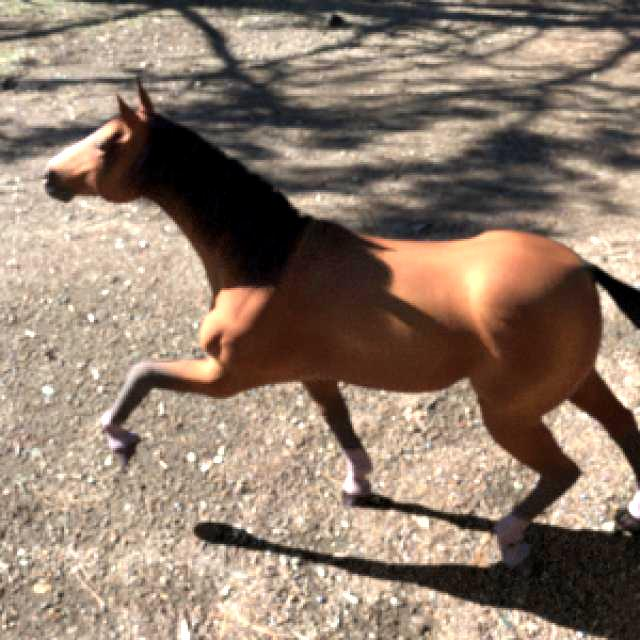horse: (45, 84, 640, 566)
